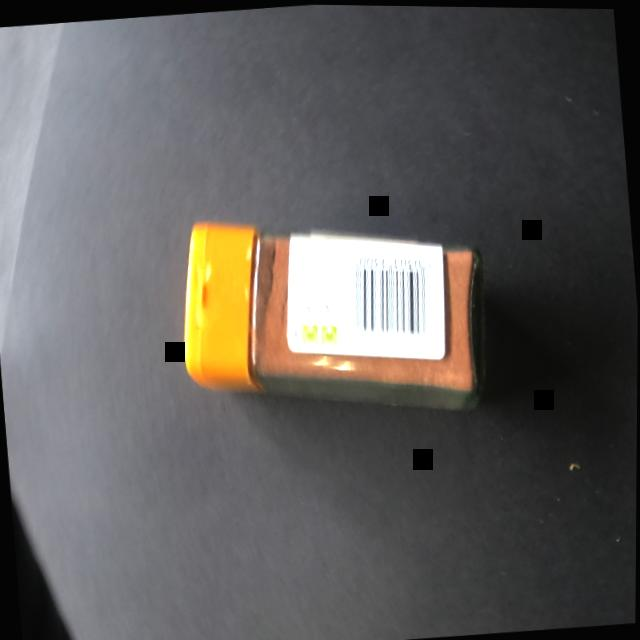Cinnamon: (125, 137, 537, 481)
